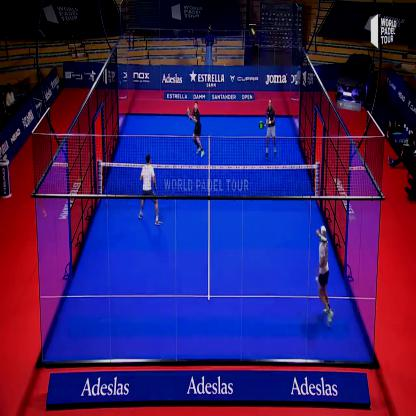ball: (249, 24, 257, 37)
